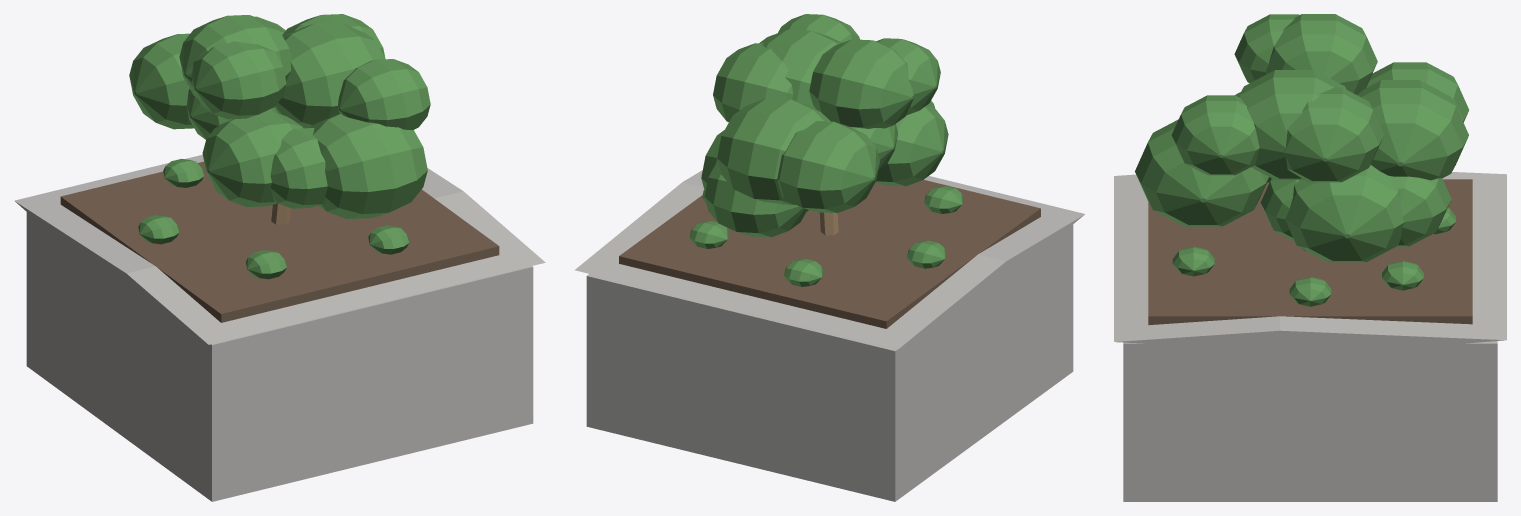
Rendered from SM_Prop_Planter.fbx.
The picture shows the model from 3 angles, left to right: view 1: azimuth 30°, elevation 25°; view 2: azimuth 150°, elevation 25°; view 3: azimuth 270°, elevation 25°; orthographic projection. The views are drawn at different scales.
Visible parts, largest first — view 1: SM_Prop_Planter; view 2: SM_Prop_Planter; view 3: SM_Prop_Planter.
Part boxes in pixels (<box>): SM_Prop_Planter: <box>14,14,545,501</box>; SM_Prop_Planter: <box>574,14,1084,501</box>; SM_Prop_Planter: <box>1114,14,1506,501</box>.
Bounding box in the file's own units: 1.26 × 1.26 × 1.35.
